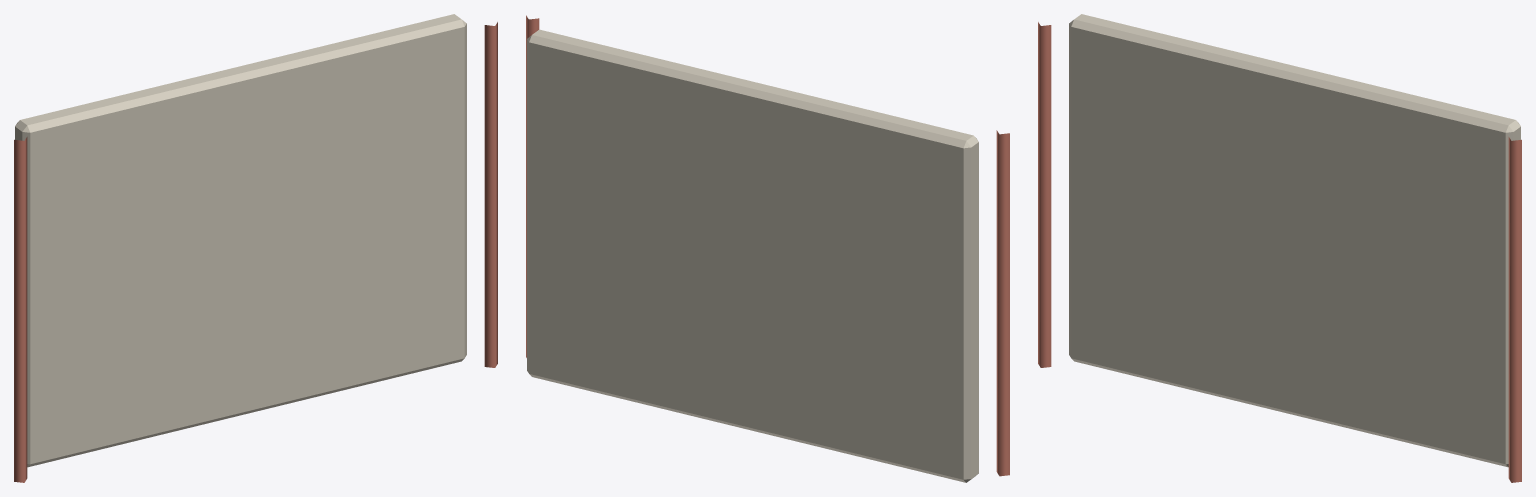
File: packaging.glb
3 renders of one model, left to right at view 1: azimuth 30°, elevation 25°; view 2: azimuth 150°, elevation 25°; view 3: azimuth 330°, elevation 25°, orthographic.
Parts seen in each view (by area): view 1: packaging; view 2: packaging; view 3: packaging.
Part boxes in pixels (bbox=[...]): packaging: bbox=[14, 14, 497, 482]; packaging: bbox=[526, 15, 1009, 482]; packaging: bbox=[1038, 14, 1521, 482].
Size of the model in its own units: 0.333 by 0.225 by 0.0304.
